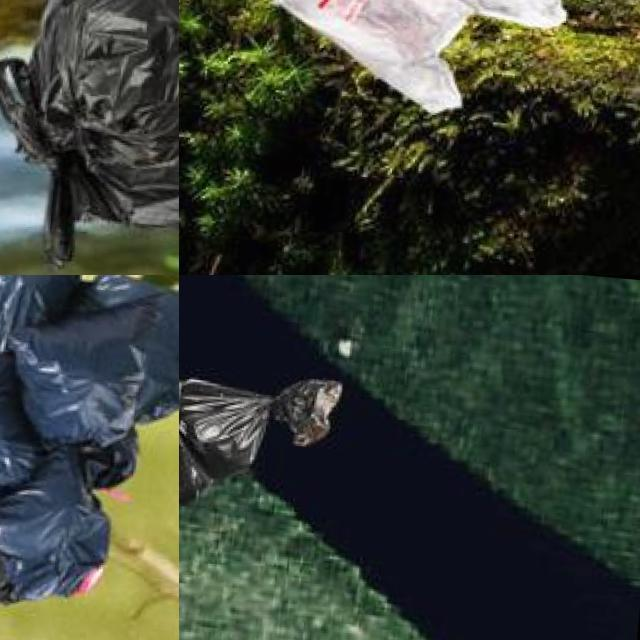waste: (0, 0, 179, 255), (264, 0, 572, 116), (179, 362, 342, 542), (0, 280, 142, 439), (0, 449, 115, 594), (0, 275, 81, 359), (0, 343, 46, 482)
